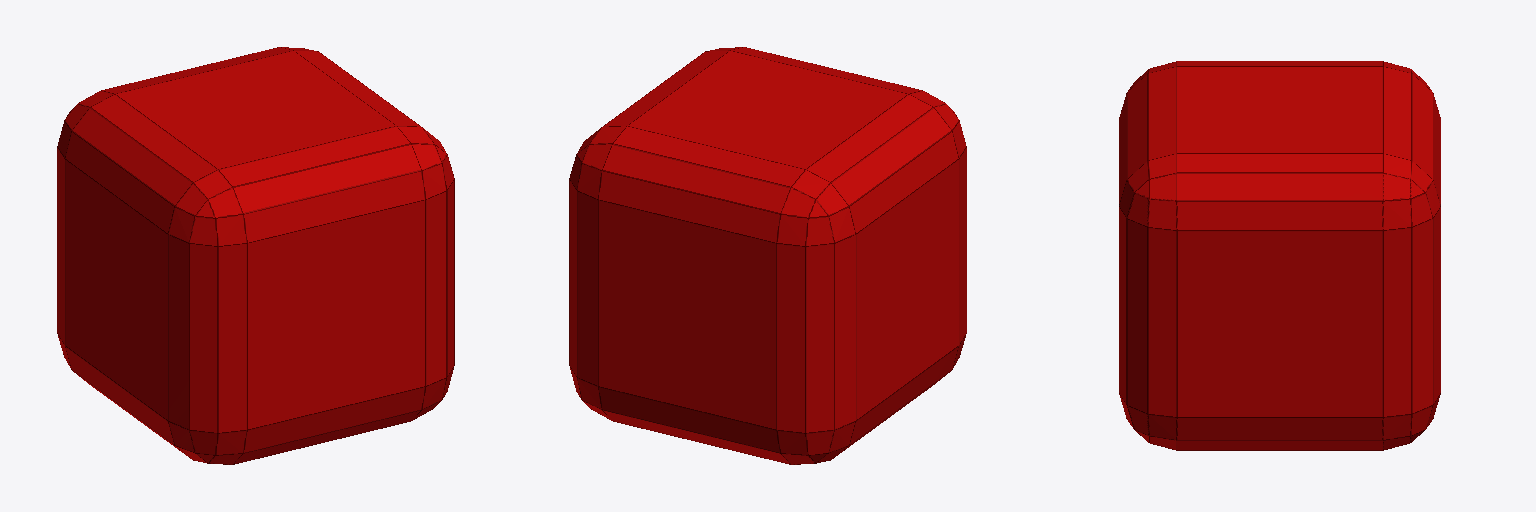
3 views of the same model, side by side, from view 1: azimuth 30°, elevation 25°; view 2: azimuth 150°, elevation 25°; view 3: azimuth 270°, elevation 25° (orthographic).
Parts seen in each view (by area): view 1: Cube; view 2: Cube; view 3: Cube.
Part boxes in pixels (left/top/right/bottom): Cube: left=57, top=47, right=454, bottom=464; Cube: left=569, top=47, right=966, bottom=464; Cube: left=1119, top=61, right=1440, bottom=450.
Bounding box in the file's own units: 2 × 2 × 2.
1 materials, 1 textured.